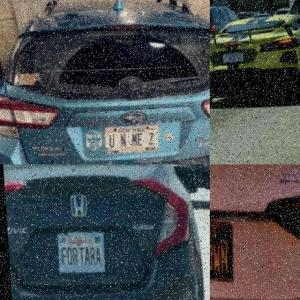Plate: (56, 229, 104, 278), (210, 218, 241, 285), (100, 127, 155, 157), (219, 53, 241, 67), (202, 165, 210, 172)
